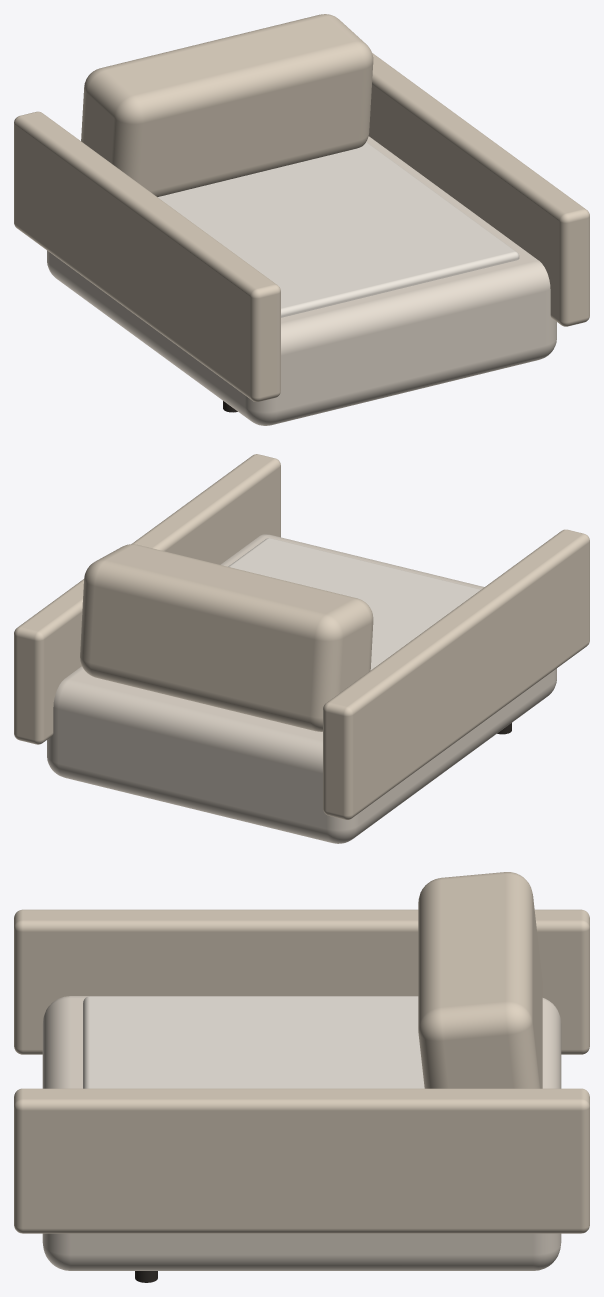
Rendered from mr-pamela.glb.
The picture shows the model from 3 angles, top to bottom: view 1: azimuth 30°, elevation 25°; view 2: azimuth 150°, elevation 25°; view 3: azimuth 270°, elevation 25°; orthographic projection. The views are drawn at different scales.
Parts seen in each view (by area): view 1: back-cushion-1, arm-left, seat-base, seat-cushion-1, arm-right; view 2: back-cushion-1, seat-base, arm-left, arm-right, seat-cushion-1; view 3: arm-right, arm-left, seat-cushion-1, back-cushion-1, seat-base.
Part boxes in pixels (x1=…): back-cushion-1: x1=81, y1=14, x2=373, y2=196; arm-left: x1=14, y1=111, x2=280, y2=401; seat-base: x1=47, y1=136, x2=556, y2=425; seat-cushion-1: x1=158, y1=142, x2=519, y2=317; arm-right: x1=368, y1=53, x2=589, y2=326; back-cushion-1: x1=80, y1=544, x2=373, y2=731; seat-base: x1=47, y1=534, x2=556, y2=843; arm-left: x1=323, y1=529, x2=589, y2=819; arm-right: x1=14, y1=454, x2=280, y2=744; seat-cushion-1: x1=228, y1=538, x2=480, y2=670; arm-right: x1=14, y1=1088, x2=589, y2=1233; arm-left: x1=14, y1=909, x2=589, y2=1054; seat-cushion-1: x1=83, y1=996, x2=424, y2=1088; back-cushion-1: x1=418, y1=872, x2=542, y2=1088; seat-base: x1=42, y1=996, x2=561, y2=1270.
Bounding box in the file's own units: 0.9579 × 0.5976 × 1.19.
